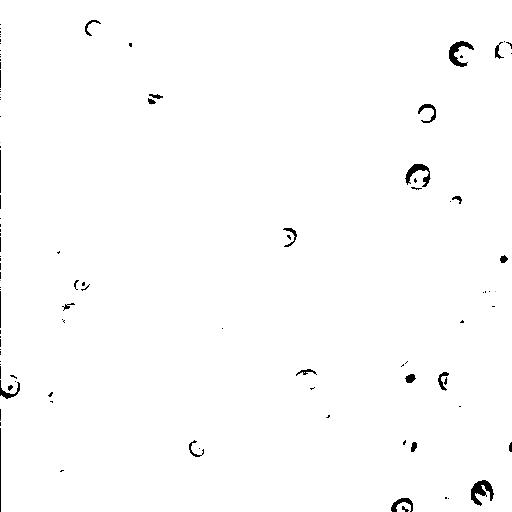micro-algae: (197, 253, 273, 329), (103, 71, 159, 128), (105, 195, 156, 250), (5, 285, 47, 323), (42, 239, 82, 277), (379, 17, 416, 53), (99, 471, 128, 500), (404, 161, 432, 191), (397, 359, 425, 389), (423, 491, 463, 511), (447, 41, 475, 67), (475, 289, 503, 315), (292, 368, 321, 393), (487, 243, 511, 273), (55, 301, 82, 326), (49, 467, 73, 495), (43, 388, 73, 410), (471, 480, 497, 505), (119, 337, 144, 361), (123, 31, 149, 54), (1, 373, 24, 399), (275, 226, 299, 248), (493, 38, 511, 65), (417, 103, 438, 125), (439, 370, 459, 393), (452, 311, 473, 330), (72, 271, 91, 292), (83, 19, 103, 36), (391, 497, 415, 511), (189, 439, 205, 458), (400, 436, 416, 453), (447, 195, 464, 209)
